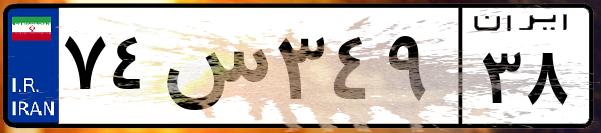3: (270, 28, 330, 110), (475, 38, 525, 113)
4: (330, 28, 385, 110), (110, 28, 158, 98)
7: (57, 26, 110, 100)
8: (525, 38, 570, 115)
9: (385, 28, 445, 110)
س: (158, 20, 270, 120)
